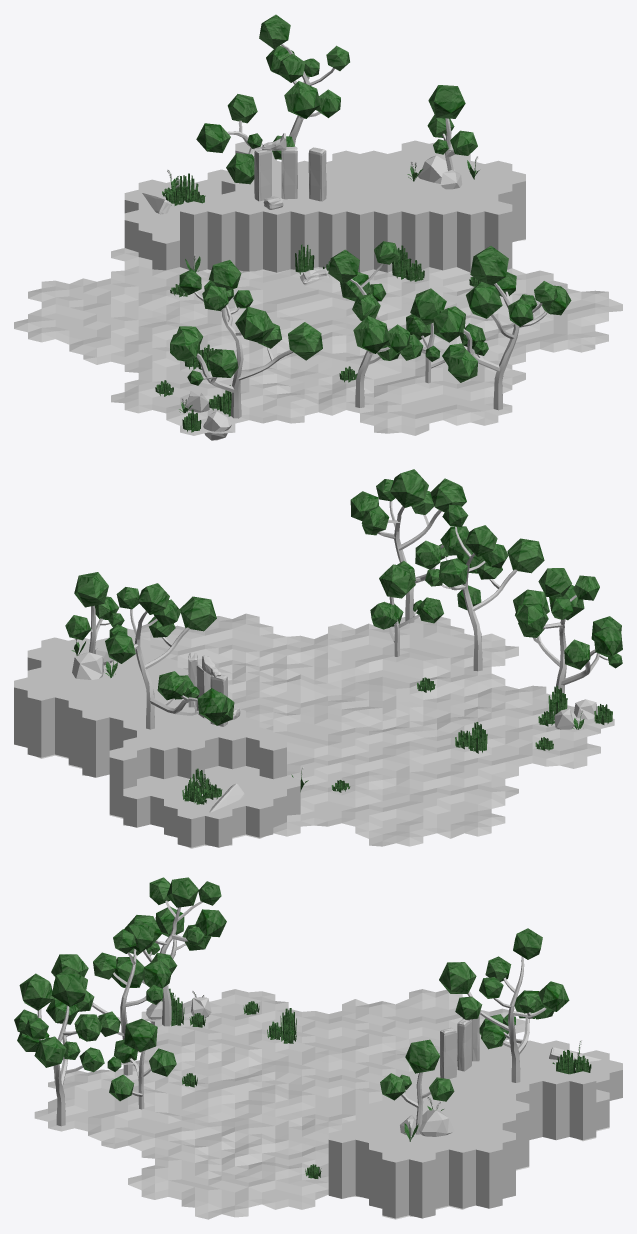
Rendered from FirstBattleGround.fbx.
3 views of the same model, one above another, from view 1: azimuth 30°, elevation 25°; view 2: azimuth 150°, elevation 25°; view 3: azimuth 270°, elevation 25° (orthographic). The views are drawn at different scales.
Parts seen in each view (by area): view 1: polySurface37, pSolid3 (×5), pasted__pCylinder204, pSolid10, Core (×2), polySurface43, pasted__pCylinder205, polySurface41, polySurface44, polySurface42, pSolid4 (×2), pCylinder259 (+10 smaller); view 2: polySurface37, pSolid3 (×5), polySurface42, polySurface41, pSolid10, pCylinder286, pCylinder267, pasted__pCylinder204, pCylinder257, pCylinder285, pasted__pCylinder205, Core (×2) (+7 smaller); view 3: polySurface37, pSolid3 (×5), polySurface43, polySurface42, pCylinder286, pSolid10, pasted__pCylinder204, polySurface41, polySurface40, Core (×3), Second, pasted__pCylinder188 (+10 smaller).
Part boxes in pixels (x1,y1,x2,y2): polySurface37: [14, 239, 622, 435]; pSolid3 (×5): [170, 14, 571, 385]; pasted__pCylinder204: [180, 201, 512, 272]; pSolid10: [328, 241, 410, 360]; Core (×2): [194, 283, 547, 418]; polySurface43: [455, 160, 525, 242]; pasted__pCylinder205: [124, 210, 179, 270]; polySurface41: [326, 150, 401, 184]; polySurface44: [374, 171, 456, 204]; polySurface42: [387, 140, 470, 173]; pSolid4 (×2): [203, 155, 455, 440]; pCylinder259: [326, 181, 387, 204]; polySurface37: [36, 613, 614, 848]; pSolid3 (×5): [65, 469, 622, 725]; polySurface42: [14, 667, 95, 757]; polySurface41: [68, 687, 146, 777]; pSolid10: [425, 504, 544, 609]; pCylinder286: [109, 737, 177, 817]; pCylinder267: [123, 776, 202, 837]; pasted__pCylinder204: [127, 628, 286, 779]; pCylinder257: [177, 798, 245, 847]; pCylinder285: [177, 727, 245, 778]; pasted__pCylinder205: [246, 776, 300, 837]; Core (×2): [378, 501, 608, 693]; polySurface37: [34, 989, 609, 1219]; pSolid3 (×5): [14, 877, 569, 1101]; polySurface43: [369, 1130, 448, 1218]; polySurface42: [435, 1120, 515, 1208]; pCylinder286: [529, 1061, 596, 1140]; pSolid10: [51, 920, 171, 1036]; pasted__pCylinder204: [328, 1024, 483, 1198]; polySurface41: [449, 1091, 529, 1169]; polySurface40: [462, 1061, 542, 1139]; Core (×3): [37, 900, 203, 1126]; Second: [467, 956, 546, 1082]; pasted__pCylinder188: [355, 1120, 395, 1198].
Size of the model in its own units: 35 by 15.4 by 39.43.
